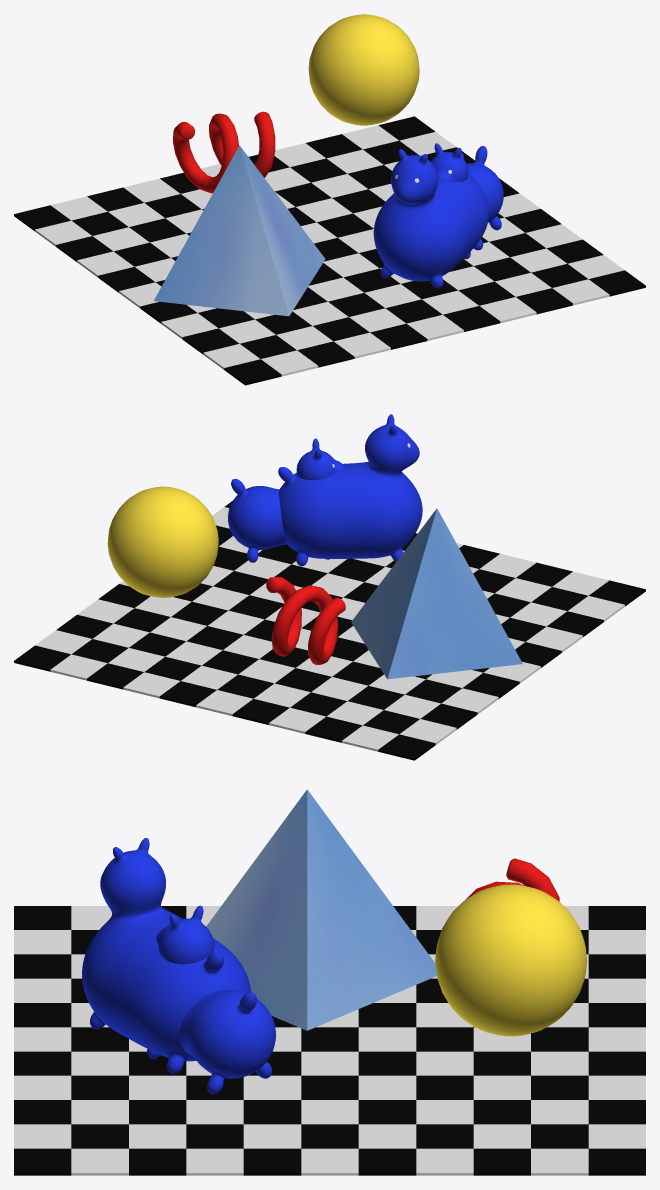
The picture shows the model from 3 angles, top to bottom: view 1: azimuth 30°, elevation 25°; view 2: azimuth 150°, elevation 25°; view 3: azimuth 270°, elevation 25°; orthographic projection. The views are drawn at different scales.
Parts seen in each view (by area): view 1: Grid, Cone, bouncy, Sphere, Helix.001, bouncy.001; view 2: Grid, Cone, bouncy, Sphere, bouncy.001, Helix.001; view 3: Grid, Cone, Sphere, bouncy, bouncy.001, Helix.001.
Part boxes in pixels (x1=…): Grid: x1=14, y1=116, x2=645, y2=385; Cone: x1=154, y1=145, x2=325, y2=316; bouncy: x1=373, y1=149, x2=488, y2=288; Sphere: x1=308, y1=14, x2=419, y2=125; Helix.001: x1=173, y1=111, x2=275, y2=193; bouncy.001: x1=431, y1=143, x2=503, y2=259; Grid: x1=14, y1=501, x2=645, y2=760; Cone: x1=351, y1=508, x2=522, y2=679; bouncy: x1=278, y1=414, x2=422, y2=566; Sphere: x1=107, y1=486, x2=218, y2=597; bouncy.001: x1=228, y1=438, x2=344, y2=562; Helix.001: x1=266, y1=577, x2=345, y2=664; Grid: x1=14, y1=906, x2=645, y2=1175; Cone: x1=206, y1=789, x2=436, y2=1030; Sphere: x1=435, y1=884, x2=587, y2=1036; bouncy: x1=82, y1=838, x2=251, y2=1073; bouncy.001: x1=147, y1=905, x2=275, y2=1094; Helix.001: x1=466, y1=858, x2=559, y2=901.
Bounding box in the file's own units: 10 × 3.8 × 10.
Materials: 7 (1 with a texture image).
